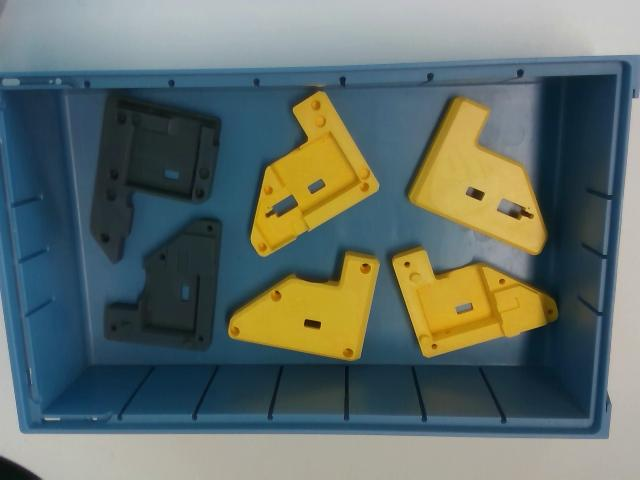1Agray: (108, 218, 223, 352)
1Ayellow: (391, 249, 558, 363), (231, 249, 381, 362)
1Byellow: (407, 95, 551, 258), (249, 89, 381, 259)
3Bgray: (86, 92, 226, 266)
